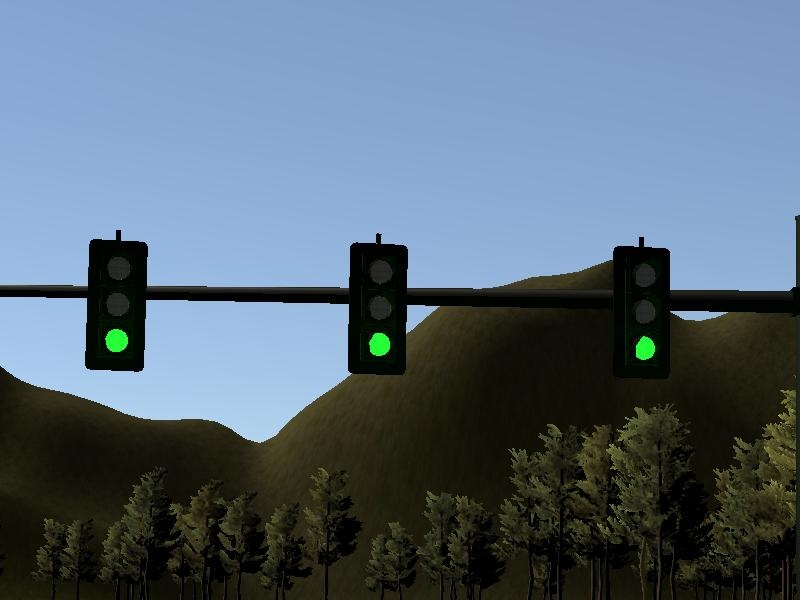GREEN: (348, 242, 409, 376), (611, 245, 671, 380), (88, 240, 146, 373)
